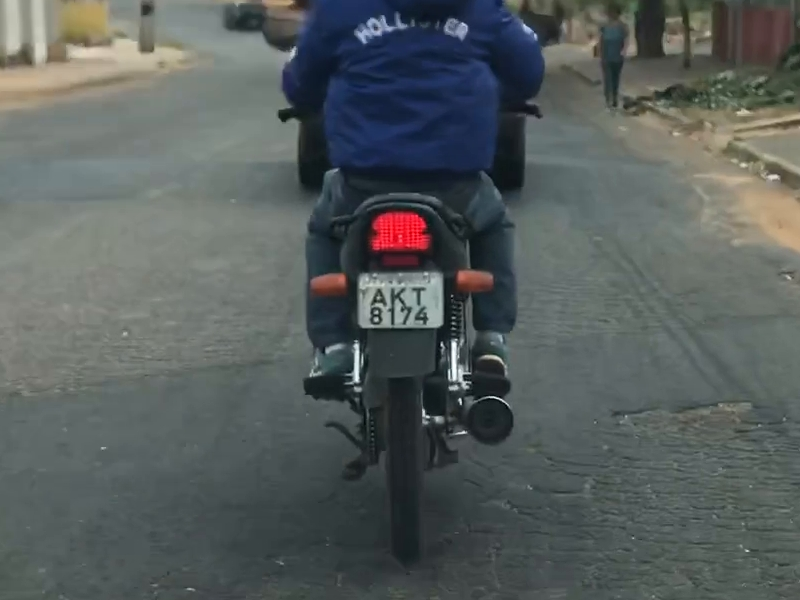placa: (357, 272, 443, 329)
